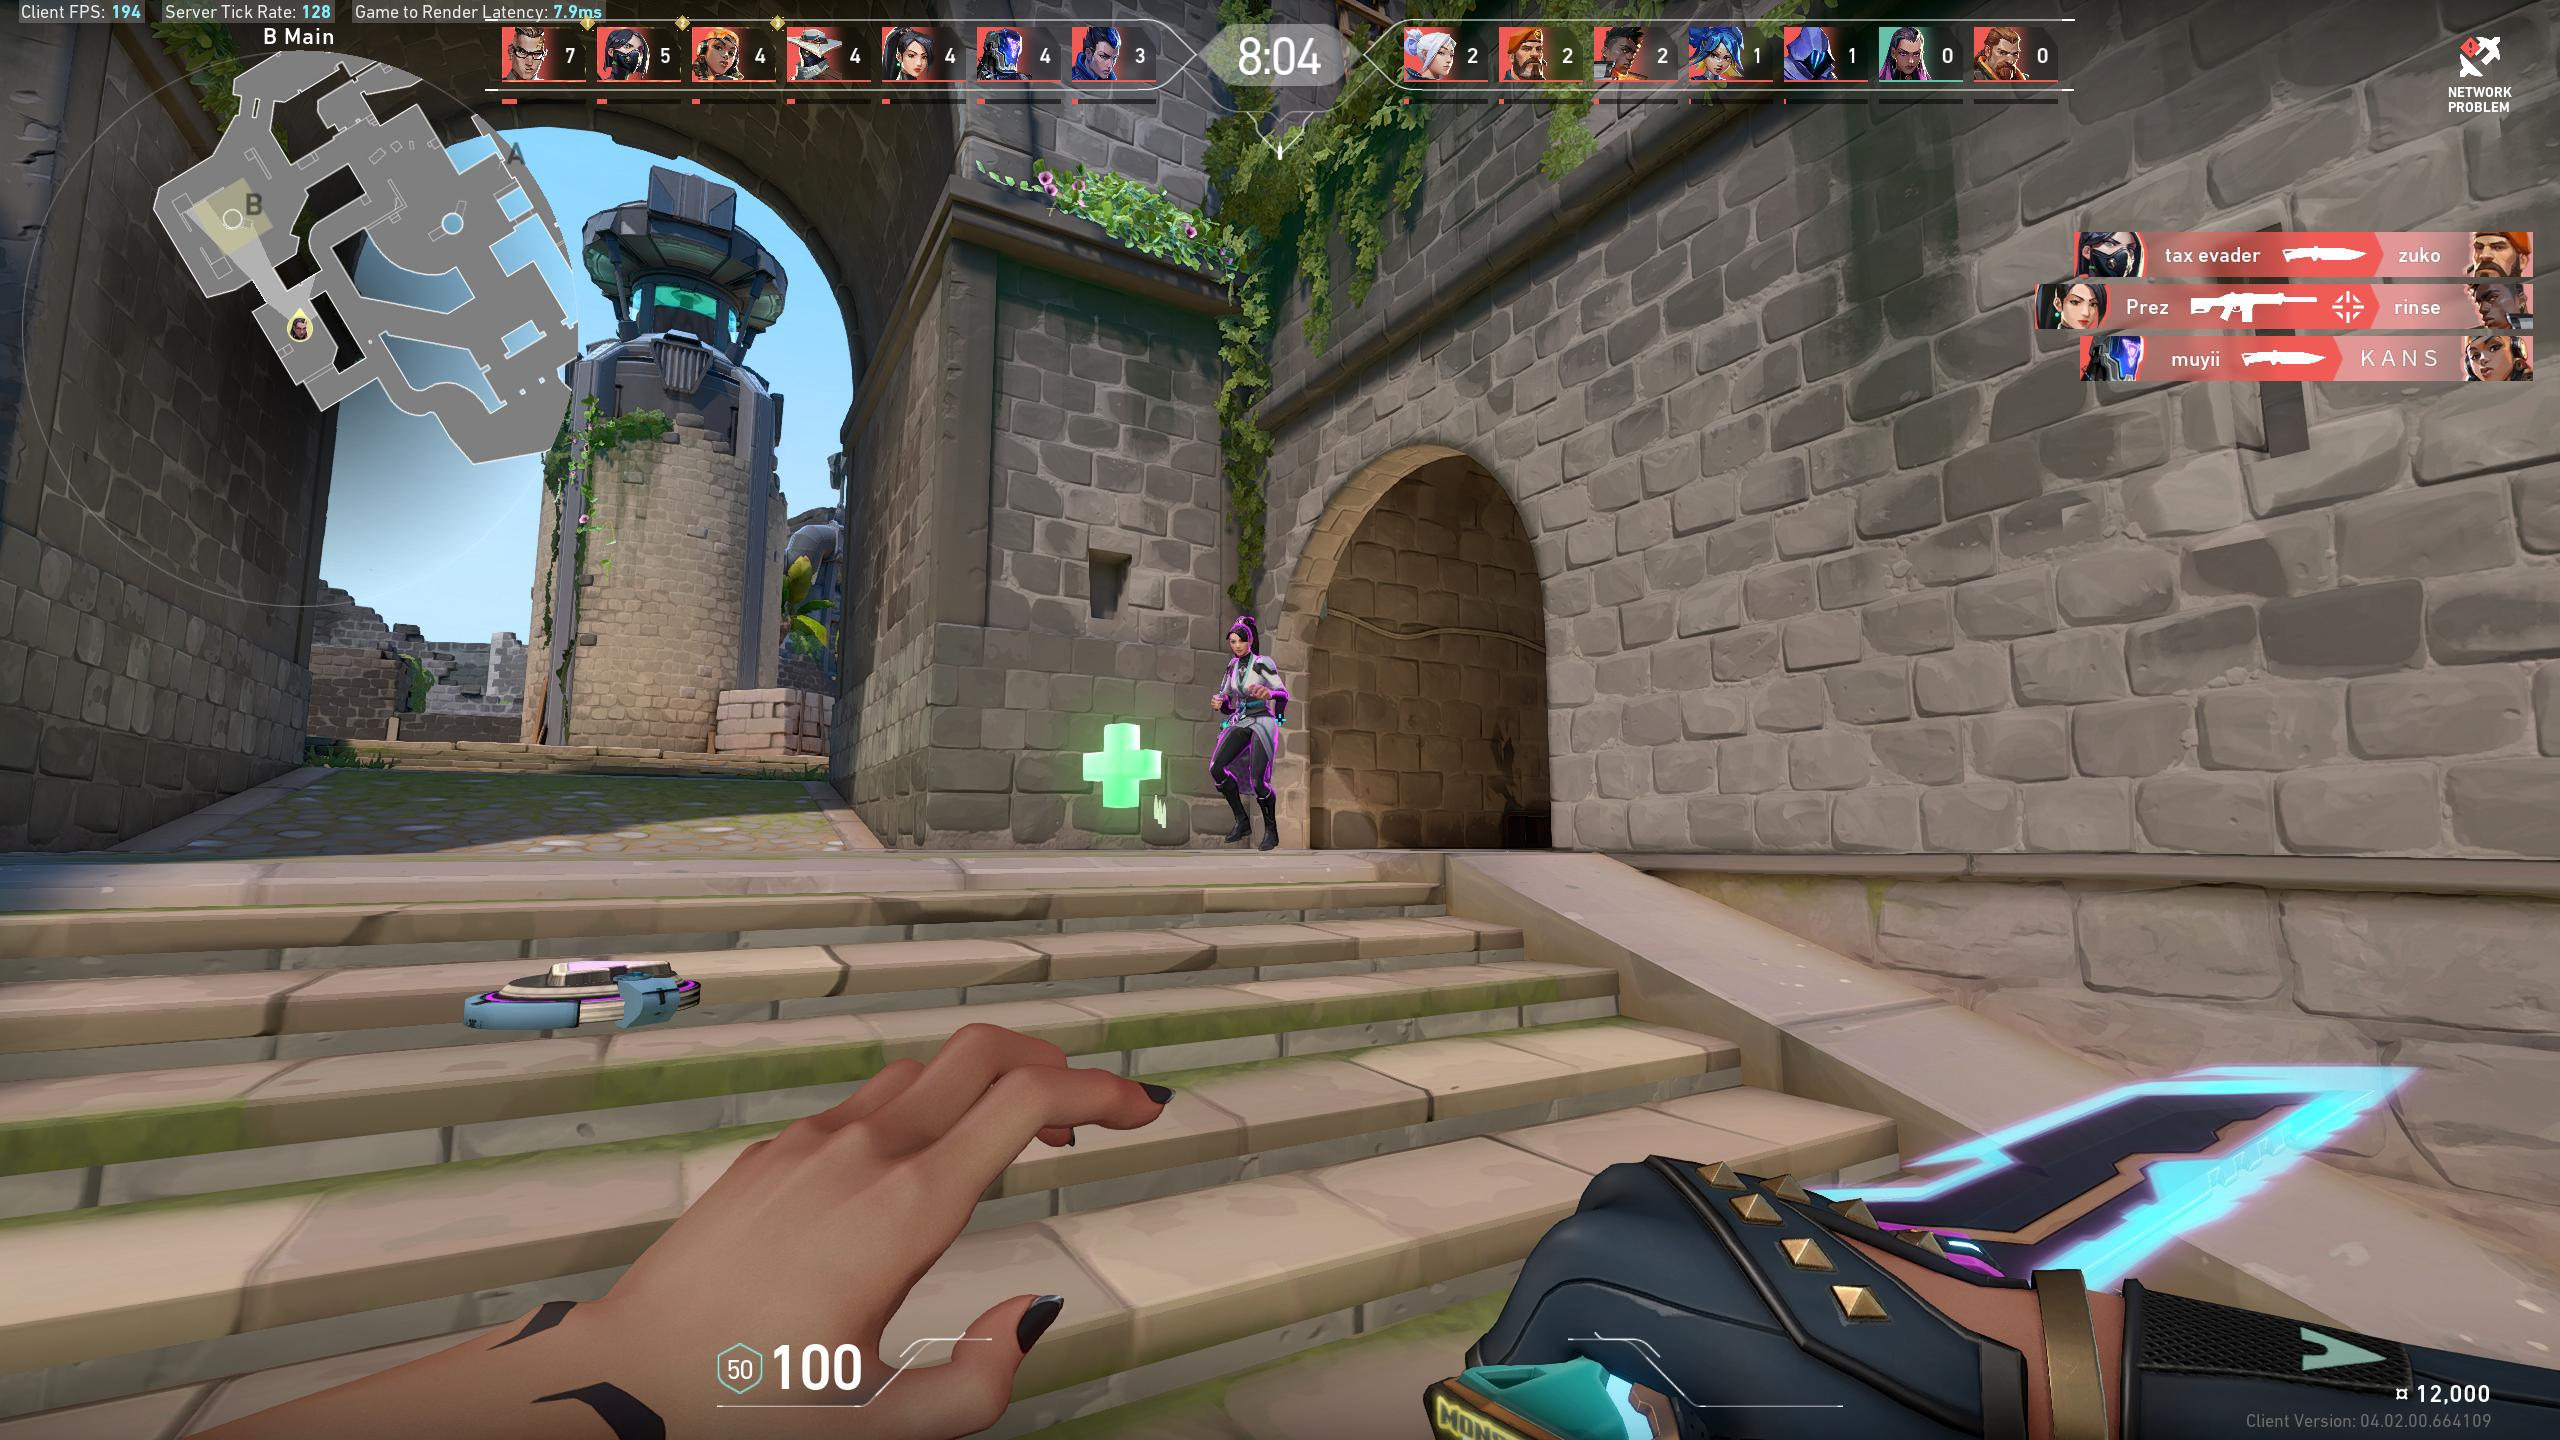enemyBody: (1233, 663, 1262, 709)
enemyHead: (1233, 629, 1248, 651)
